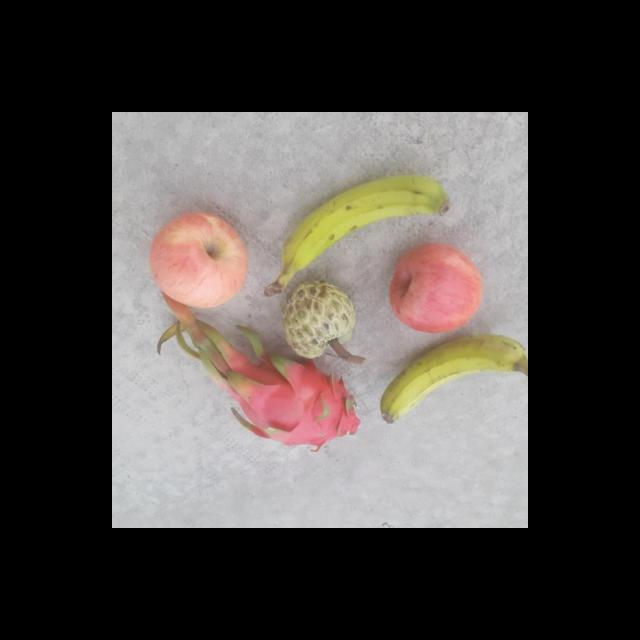Sakya fruit: (280, 276, 363, 362)
apple: (388, 240, 488, 334)
banana: (267, 171, 458, 286), (380, 334, 528, 424), (148, 208, 257, 310)
pitaya: (228, 348, 374, 453)
